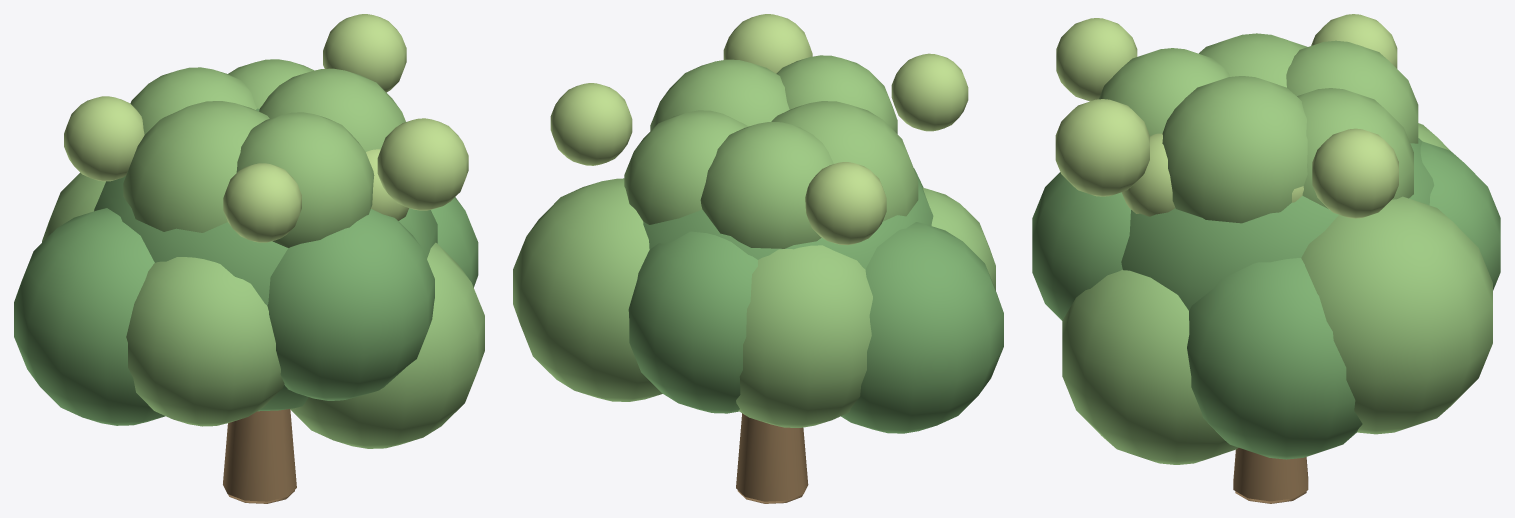
File: bush.glb
The picture shows the model from 3 angles, left to right: view 1: azimuth 30°, elevation 25°; view 2: azimuth 150°, elevation 25°; view 3: azimuth 270°, elevation 25°; orthographic projection. The views are drawn at different scales.
Parts seen in each view (by area): view 1: Crown, Stem; view 2: Crown, Stem; view 3: Crown, Stem.
Part boxes in pixels (box(x1,y1,x2,y2)): Crown: box(14, 14, 484, 448); Stem: box(223, 409, 296, 503); Crown: box(513, 14, 1003, 433); Stem: box(736, 413, 808, 503); Crown: box(1032, 14, 1500, 464); Stem: box(1233, 448, 1308, 503).
Size of the model in its own units: 0.4761 by 0.4314 by 0.4156.
